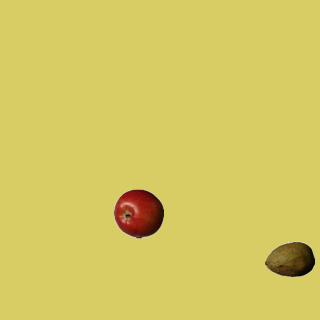Apple Braeburn: (113, 188, 163, 238)
Papaya: (264, 234, 314, 284)
